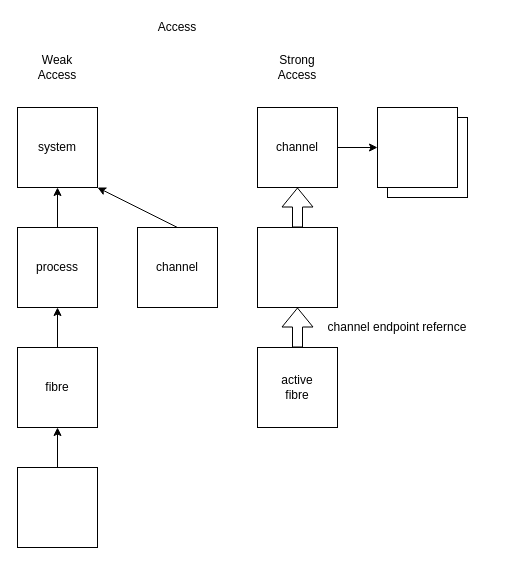
The diagram is 505 pixels wide and 565 high, and some of its shapes have lost their labels. Here are the shapes that lost their labels. From the top down, the centre of each, then its label:
At [417,147]: "waiting fibre".
At [297,267]: "channel endpoint".
At [57,507]: "continuation".
